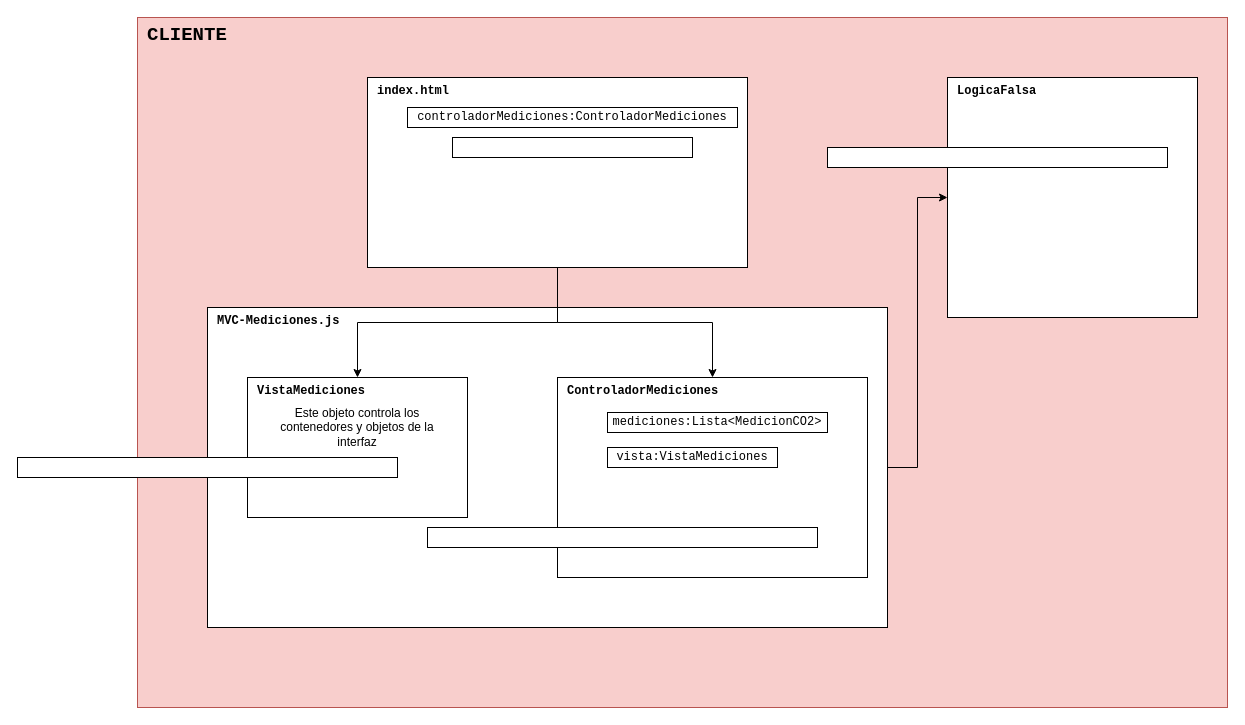
This 1245x725 diagram has some shape labels left out. The centre of each missing label's shape, as x and y in pixels:
"divError:Texto, tablaMediciones:Texto -> preparar()" goes at (x=207, y=467).
"iniciarObtenerTodasMediciones()-> Lista<MedicionCO2>" goes at (x=622, y=537).
"obtenerTodasMediciones()-> Lista<MedicionCO2>" goes at (x=997, y=157).
"vistaMediciones:VistaMediciones" goes at (x=572, y=147).
